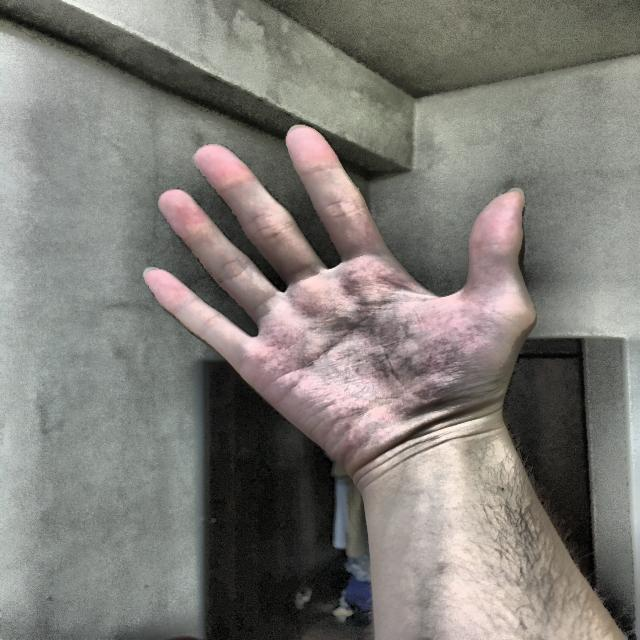not-gloved: (122, 107, 548, 495)
